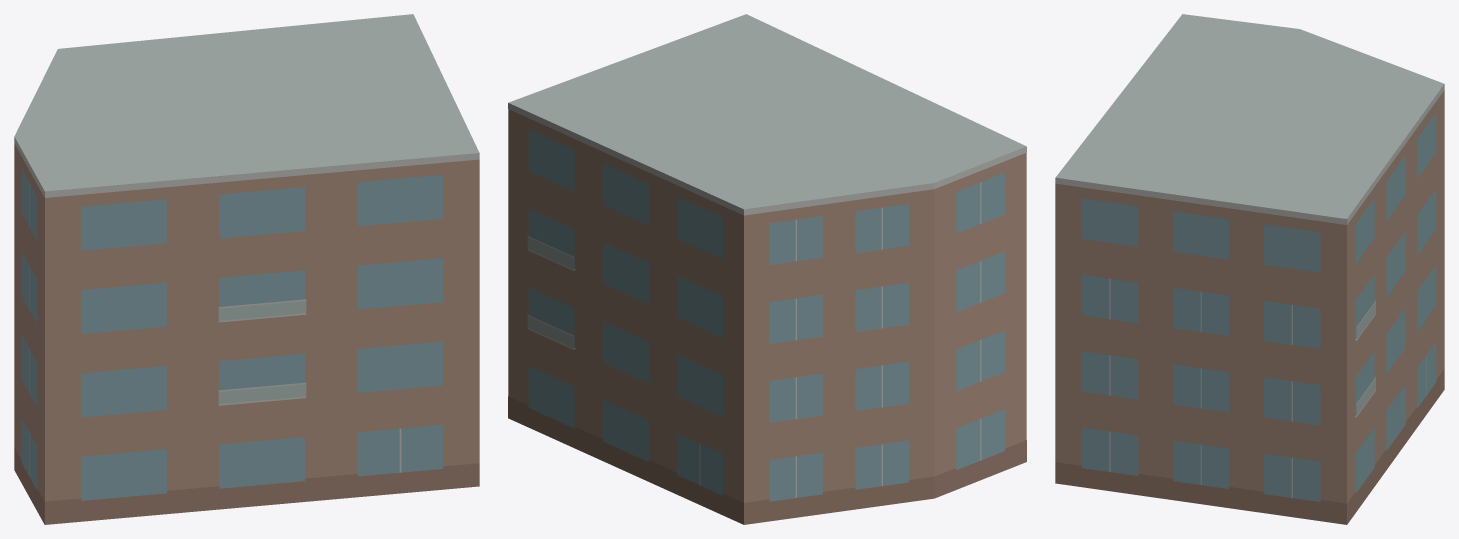
The model's file is survey-upis-32679832.glb.
The picture shows the model from 3 angles, left to right: view 1: azimuth 30°, elevation 25°; view 2: azimuth 150°, elevation 25°; view 3: azimuth 270°, elevation 25°; orthographic projection. The views are drawn at different scales.
Parts seen in each view (by area): view 1: survey-upis-32679832.tmp; view 2: survey-upis-32679832.tmp; view 3: survey-upis-32679832.tmp.
Boxes of the visible parts, <box> form: survey-upis-32679832.tmp: <box>14,14,479,524</box>; survey-upis-32679832.tmp: <box>508,14,1026,524</box>; survey-upis-32679832.tmp: <box>1055,14,1444,524</box>.
Size of the model in its own units: 18 by 12.5 by 14.43.
